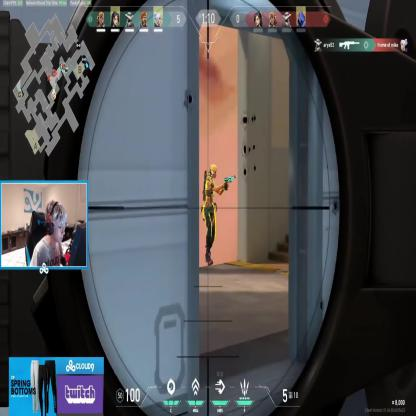enemy: (202, 164, 228, 267)
enemy_head: (209, 164, 217, 180)
